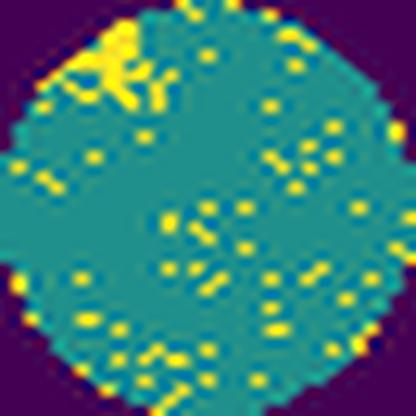Edge-Loc: (29, 17, 164, 117)
